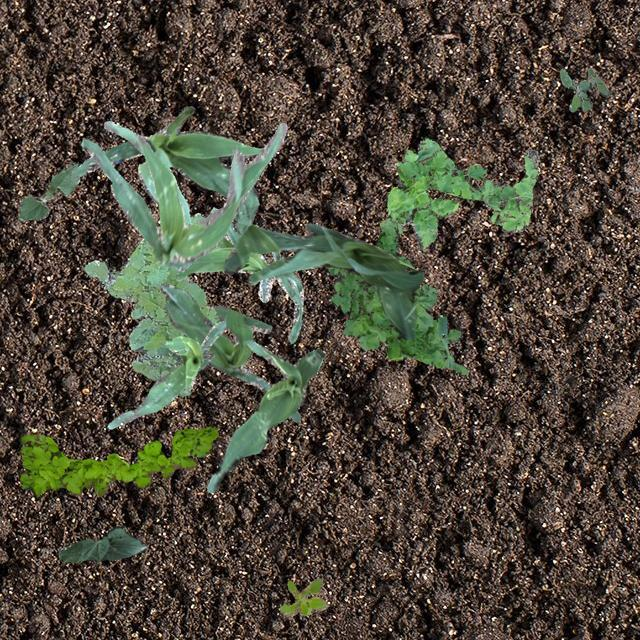crop: (80, 120, 286, 270), (69, 104, 262, 236), (223, 222, 422, 338), (159, 283, 299, 422), (205, 339, 324, 491), (175, 206, 302, 342), (106, 320, 225, 428), (18, 162, 78, 220), (58, 526, 146, 562)
weed: (84, 212, 218, 396), (326, 218, 468, 374), (387, 136, 538, 248), (18, 426, 218, 496), (558, 66, 608, 110), (278, 576, 328, 614)
